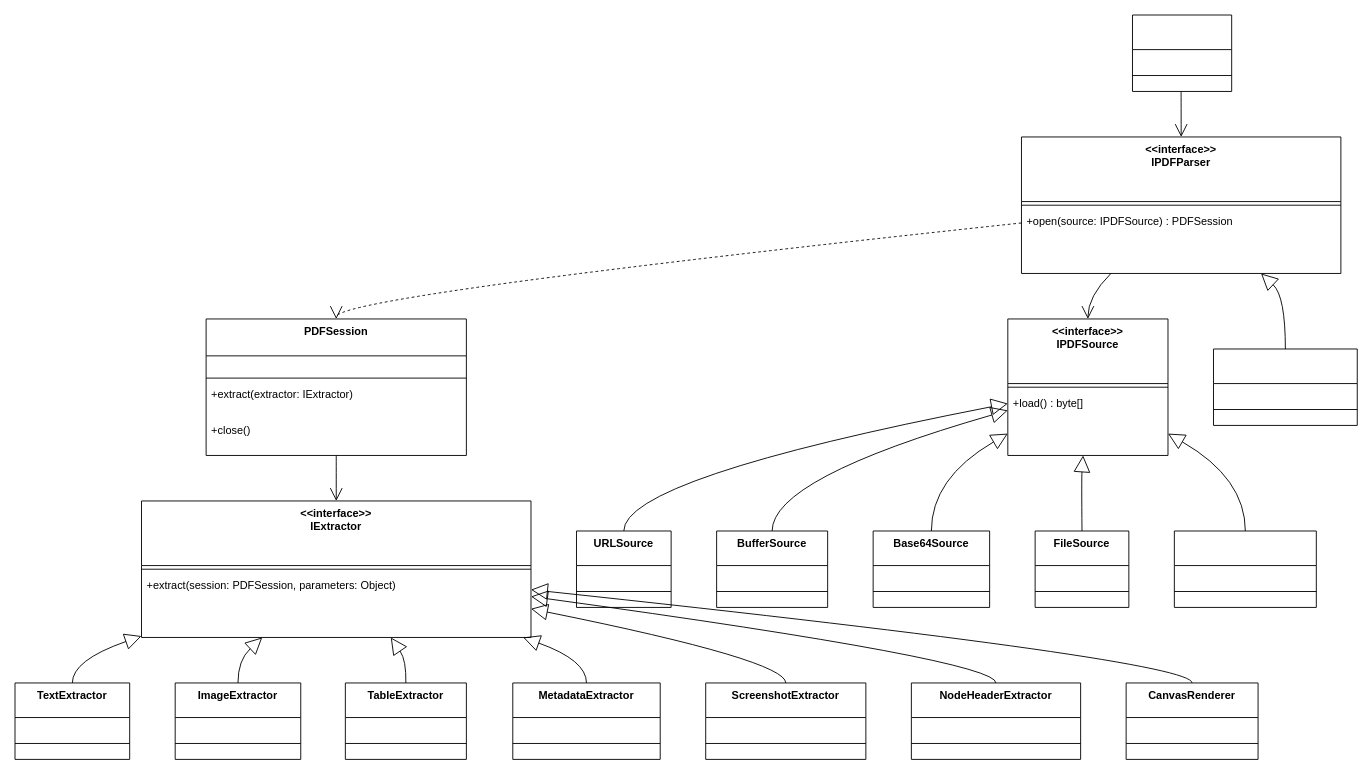
The diagram is 1372 pixels wide and 774 high, and some of its shapes have lost their labels. The shapes that lost their labels are listed below. From the top down, each one's centre as x and y in pixels, then its label:
point 1182,52: Application
point 1285,386: WebWorkerParser
point 1244,568: FileSystemSource
